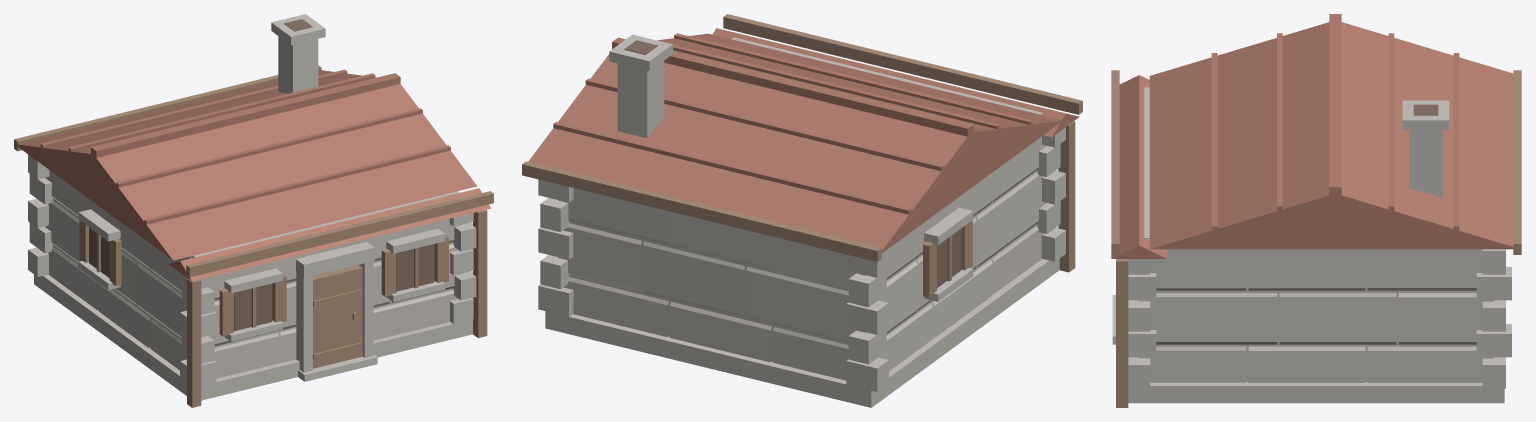
File: stone-house.glb
3 renders of one model, left to right at view 1: azimuth 30°, elevation 25°; view 2: azimuth 150°, elevation 25°; view 3: azimuth 270°, elevation 25°, orthographic. The views are drawn at different scales.
Visible parts, largest first — view 1: stone-house_roof, stone-house_stone, stone-house_wood, stone-house_door, stone-house_window; view 2: stone-house_stone, stone-house_roof, stone-house_wood, stone-house_window; view 3: stone-house_roof, stone-house_stone, stone-house_wood.
Boxes of the visible parts, x1,y1,x2,y2 form: stone-house_roof: (14,69,491,281); stone-house_stone: (28,14,476,400); stone-house_wood: (14,65,493,407); stone-house_door: (313,265,362,368); stone-house_window: (89,19,434,330); stone-house_stone: (538,34,1065,407); stone-house_roof: (528,28,1079,253); stone-house_wood: (522,14,1082,297); stone-house_window: (624,40,961,287); stone-house_roof: (1111,14,1520,258); stone-house_stone: (1112,87,1511,403); stone-house_wood: (1111,70,1521,407).
Bounding box in the file's own units: 2 × 1.43 × 2.
